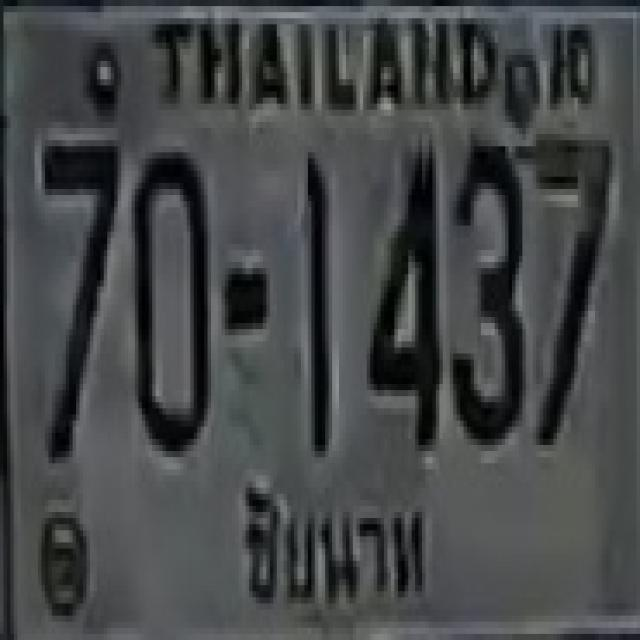0: (132, 146, 208, 445)
1: (303, 149, 327, 448)
3: (450, 140, 519, 439)
4: (365, 143, 438, 442)
7: (42, 137, 118, 454), (533, 134, 609, 439)
CNT: (235, 468, 442, 611)
